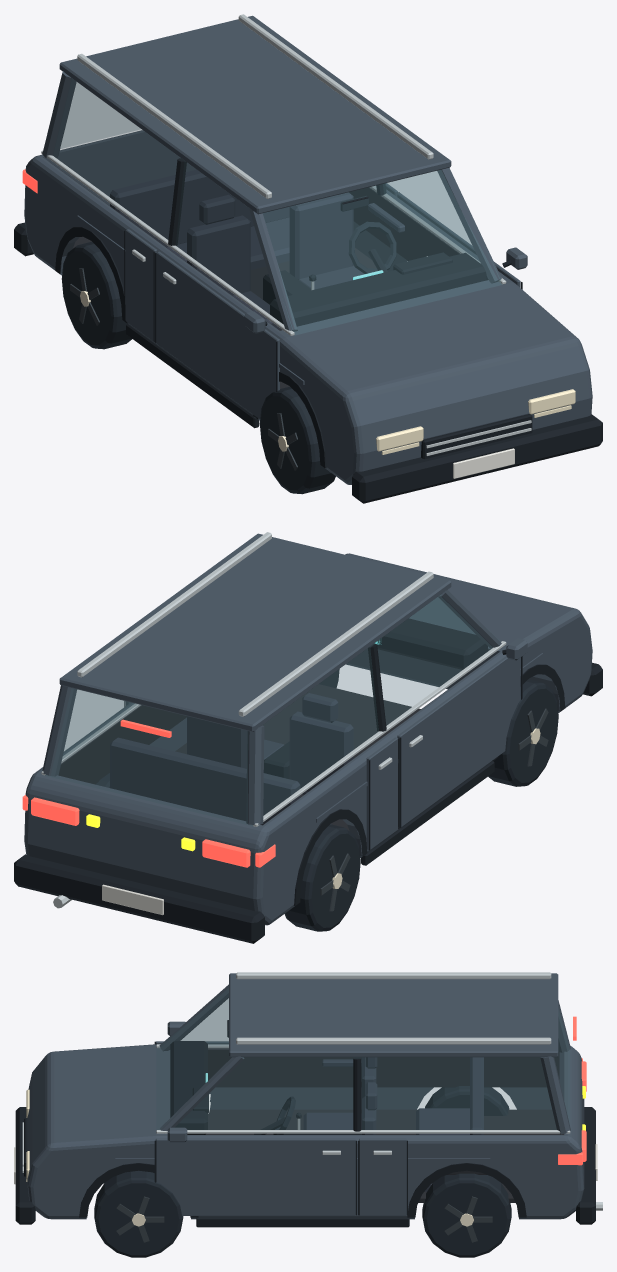
The model's file is Car_SUV.fbx.
3 views of the same model, one above another, from view 1: azimuth 30°, elevation 25°; view 2: azimuth 150°, elevation 25°; view 3: azimuth 270°, elevation 25° (orthographic). The views are drawn at different scales.
Parts seen in each view (by area): view 1: Body.002, WindowCabin.002, Roof.002, DoorPanel_FR.002, FrontBumper.002, Dashboard.002, RearSeatBack.002, Tire_FR.002, SeatBack.004, Tire_RR.002, SeatBack.005, DoorTrim.004 (+23 smaller); view 2: Body.002, Roof.002, WindowCabin.002, DoorPanel_FR.002, RearSeatBack.002, RearBumper.002, Tire_RR.002, Tire_FR.002, CabinFloor.002, SeatBack.005, Dashboard.002, DoorTrim.004 (+17 smaller); view 3: Body.002, WindowCabin.002, Roof.002, DoorPanel_FL.002, DoorTrim.005, Tire_RL.002, Tire_FL.002, CabinFloor.002, DoorPanel_RL.002, Dashboard.002, RoofRail, RoofRail.001 (+16 smaller).
Boxes of the visible parts, x1,y1,x2,y2 form: Body.002: [24, 130, 592, 484]; WindowCabin.002: [53, 79, 502, 335]; Roof.002: [59, 15, 451, 214]; DoorPanel_FR.002: [156, 251, 279, 419]; FrontBumper.002: [352, 414, 602, 503]; Dashboard.002: [270, 252, 487, 326]; RearSeatBack.002: [110, 169, 289, 247]; Tire_FR.002: [259, 386, 335, 494]; SeatBack.004: [289, 192, 353, 279]; Tire_RR.002: [61, 241, 131, 349]; SeatBack.005: [187, 215, 250, 295]; DoorTrim.004: [349, 187, 488, 279]; Body.002: [24, 553, 592, 925]; Roof.002: [59, 533, 451, 731]; WindowCabin.002: [45, 594, 500, 825]; DoorPanel_FR.002: [397, 656, 520, 826]; RearSeatBack.002: [110, 737, 300, 825]; RearBumper.002: [14, 854, 264, 943]; Tire_RR.002: [284, 824, 360, 931]; Tire_FR.002: [488, 679, 558, 786]; CabinFloor.002: [175, 684, 420, 830]; SeatBack.005: [289, 711, 353, 792]; Dashboard.002: [374, 618, 487, 669]; DoorTrim.004: [58, 705, 186, 784]; Body.002: [27, 1044, 584, 1219]; WindowCabin.002: [156, 989, 569, 1129]; Roof.002: [229, 973, 558, 1057]; DoorPanel_FL.002: [155, 1138, 355, 1215]; DoorTrim.005: [208, 1048, 559, 1087]; Tire_RL.002: [422, 1173, 511, 1257]; Tire_FL.002: [94, 1170, 183, 1257]; CabinFloor.002: [205, 1109, 564, 1202]; DoorPanel_RL.002: [359, 1138, 406, 1215]; Dashboard.002: [170, 1041, 207, 1134]; RoofRail: [236, 972, 551, 979]; RoofRail.001: [236, 1037, 551, 1044].
Bounding box in the file's own units: 2.24 × 1.91 × 5.02.
